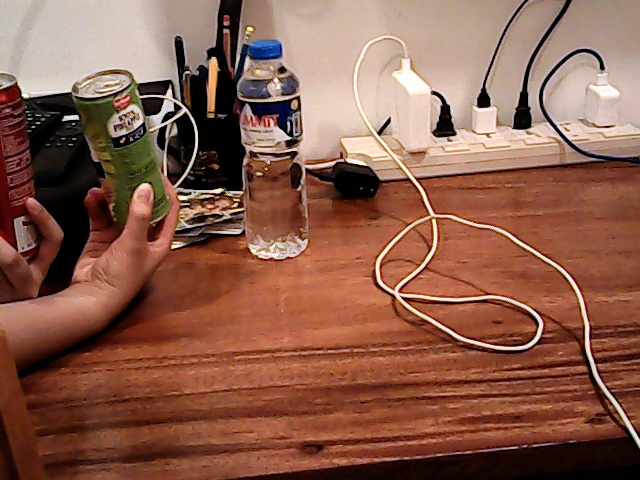Cola: (1, 72, 54, 268)
Pine Juice: (61, 63, 170, 214)
Summit Water: (228, 32, 321, 267)
